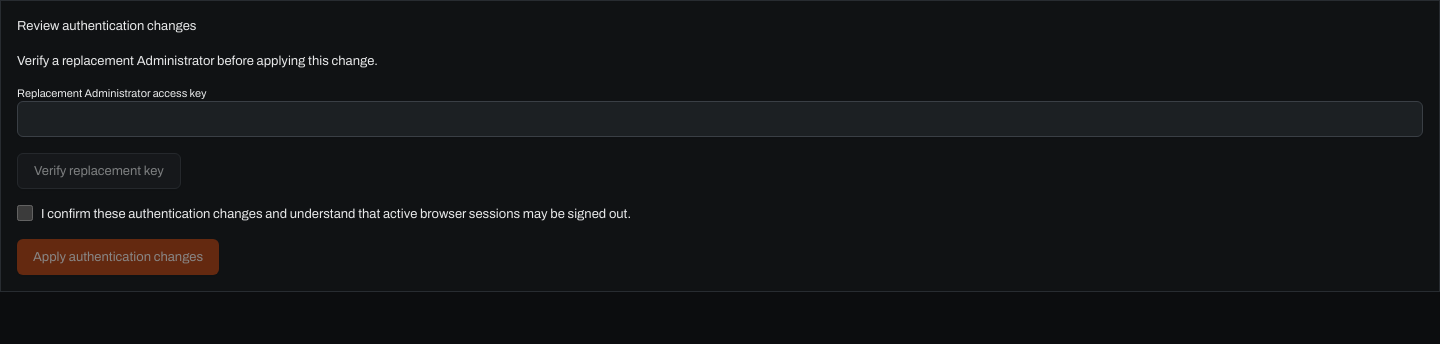
administrator confirmation lifecycle › discards proof when the parent control session disconnects
Type "replacement-key" into the password field labelled "Replacement Administrator access key" at (720, 119), box top-left (17, 101), bottom-right (1423, 137)
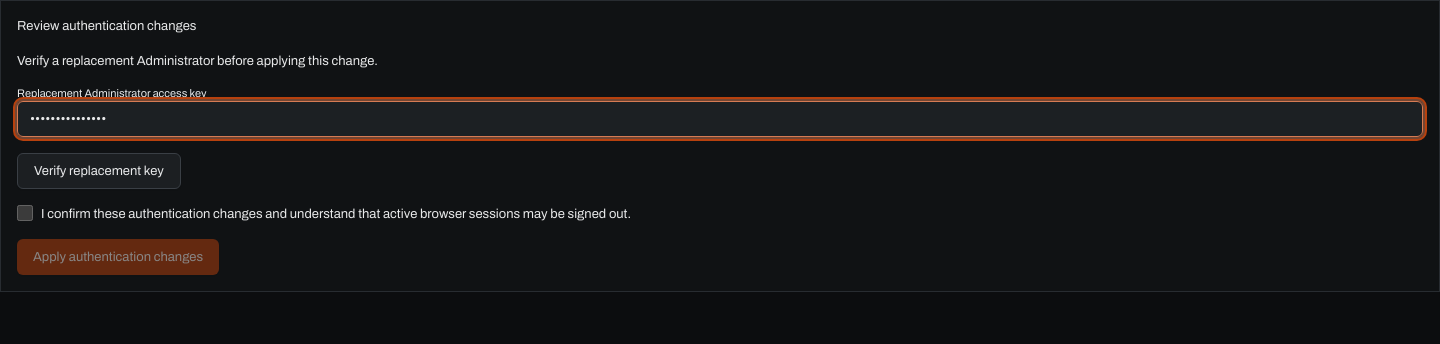
Click the button "Verify replacement key" at (99, 171), box top-left (17, 153), bottom-right (181, 189)
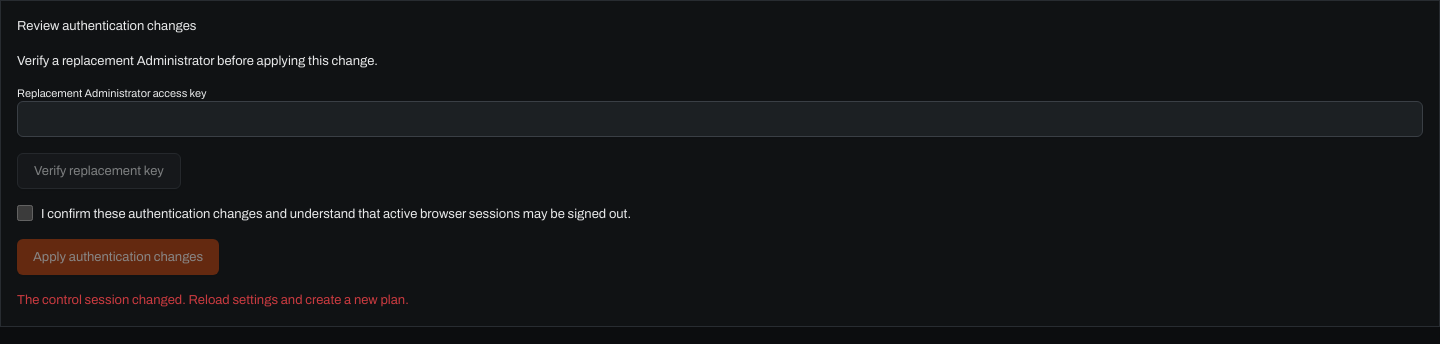
Expected: the button "Apply authentication changes" is disabled, top-left (17, 239), bottom-right (219, 275)
Now the text "control session changed" is shown, box top-left (17, 293), bottom-right (409, 307)
